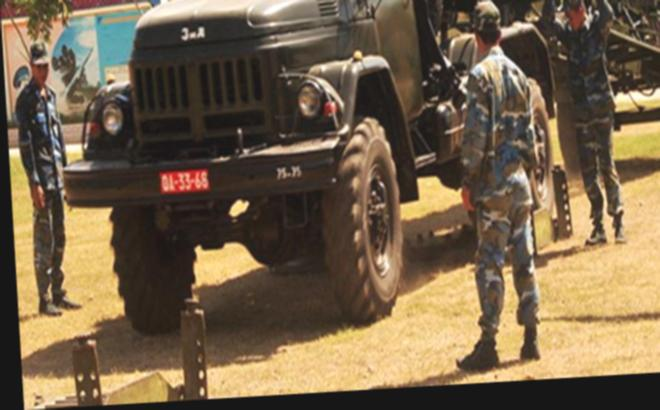License_Plate: (156, 166, 215, 198)
